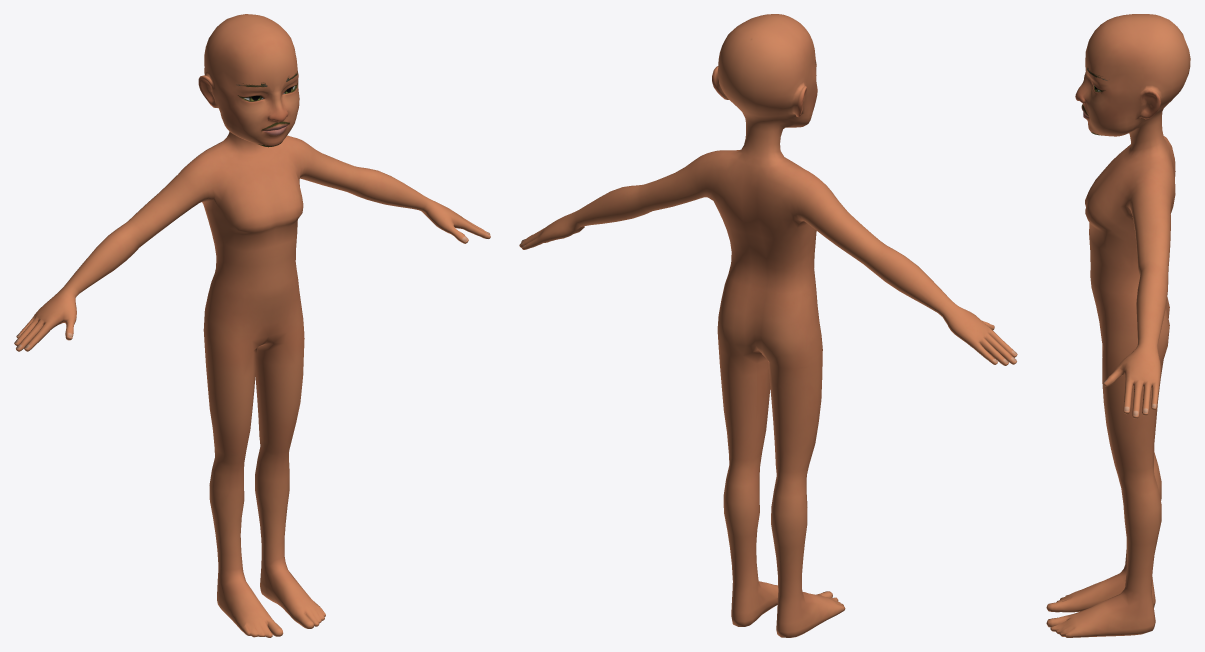
File: frame_0033.glb
3 renders of one model, left to right at view 1: azimuth 30°, elevation 25°; view 2: azimuth 150°, elevation 25°; view 3: azimuth 270°, elevation 25°, orthographic. The views are drawn at different scales.
Parts seen in each view (by area): view 1: frame_0033_head_geo; view 2: frame_0033_head_geo; view 3: frame_0033_head_geo.
Boxes of the visible parts, x1,y1,x2,y2 form: frame_0033_head_geo: [14, 14, 490, 637]; frame_0033_head_geo: [519, 14, 1017, 637]; frame_0033_head_geo: [1046, 14, 1190, 637].
Size of the model in its own units: 1.28 by 1.5 by 0.3253.
3 materials, 3 textured.
